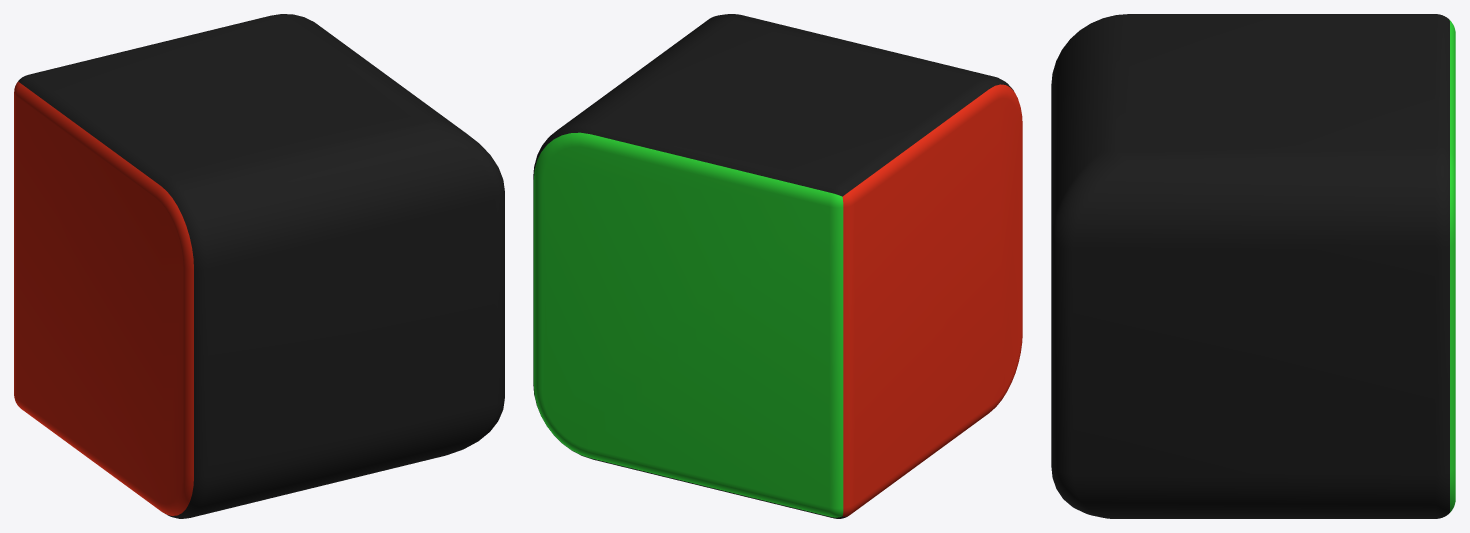
Rendered from rg_edge.glb.
3 views of the same model, side by side, from view 1: azimuth 30°, elevation 25°; view 2: azimuth 150°, elevation 25°; view 3: azimuth 270°, elevation 25° (orthographic). The views are drawn at different scales.
Visible parts, largest first — view 1: Cube.013; view 2: Cube.013; view 3: Cube.013.
Part boxes in pixels (<box>): Cube.013: <box>14,14,504,518</box>; Cube.013: <box>533,14,1022,518</box>; Cube.013: <box>1051,14,1455,518</box>.
Size of the model in its own units: 2 by 2 by 2.
